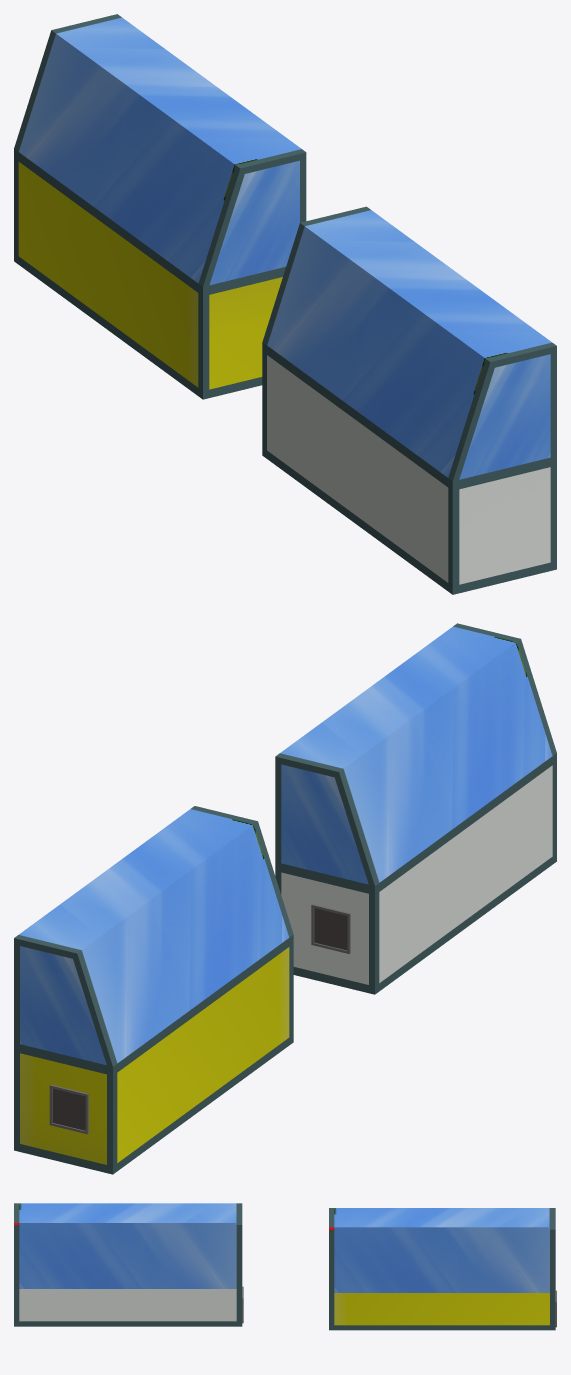
File: SM_Freezer_Cabinet.fbx
3 renders of one model, top to bottom at view 1: azimuth 30°, elevation 25°; view 2: azimuth 150°, elevation 25°; view 3: azimuth 270°, elevation 25°, orthographic. The views are drawn at different scales.
Visible parts, largest first — view 1: SM_Cheese_Cabinet, SM_Meat_Cabinet; view 2: SM_Meat_Cabinet, SM_Cheese_Cabinet; view 3: SM_Cheese_Cabinet, SM_Meat_Cabinet.
Part boxes in pixels (x1,y1,x2,y2): SM_Cheese_Cabinet: (262, 206, 556, 594); SM_Meat_Cabinet: (14, 14, 306, 399); SM_Meat_Cabinet: (14, 806, 293, 1174); SM_Cheese_Cabinet: (275, 623, 556, 994); SM_Cheese_Cabinet: (14, 1203, 243, 1326); SM_Meat_Cabinet: (329, 1208, 556, 1330).
Bounding box in the file's own units: 175 × 323 × 1184.
